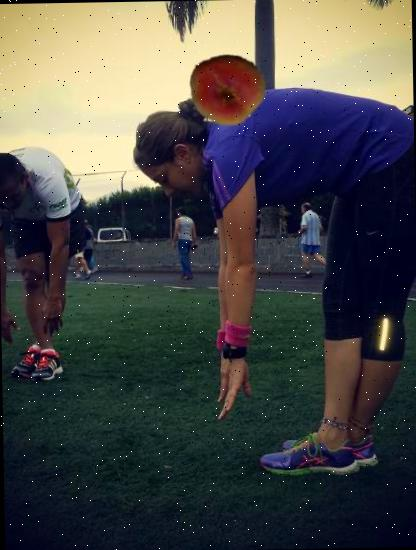Peach: (188, 48, 264, 124)
